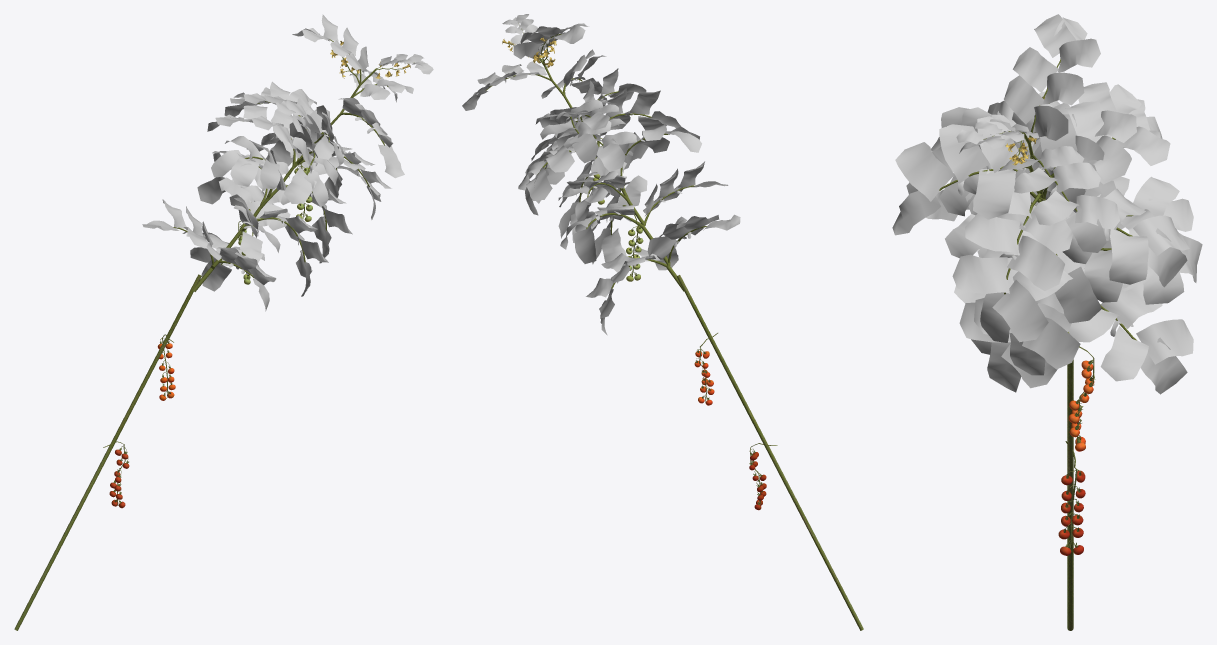
File: tomato_vine_repo_v11.dae
The picture shows the model from 3 angles, left to right: view 1: azimuth 30°, elevation 25°; view 2: azimuth 150°, elevation 25°; view 3: azimuth 270°, elevation 25°; orthographic projection. The views are drawn at different scales.
Parts seen in each view (by area): view 1: Leaf1, Branch1; view 2: Leaf1, Branch1; view 3: Leaf1, Branch1, Sphere.001, Sphere.013.
Part boxes in pixels (x1,y1,x2,y2): Leaf1: (142, 14, 433, 311); Branch1: (14, 39, 414, 630); Leaf1: (462, 14, 740, 335); Branch1: (485, 23, 863, 630); Leaf1: (892, 14, 1202, 394); Branch1: (939, 59, 1136, 630); Sphere.001: (1058, 470, 1085, 555); Sphere.013: (1068, 360, 1094, 451).
Bounding box in the file's own units: 2.11 × 0.9296 × 2.74.
